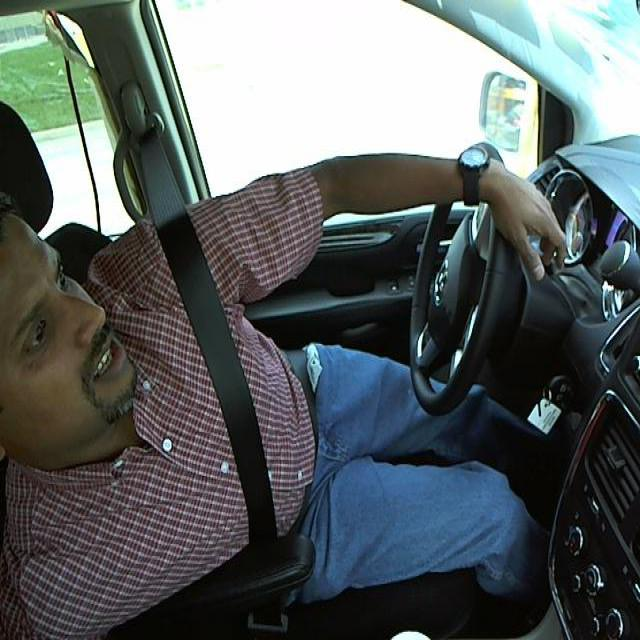seatbelt: (140, 213, 315, 547)
